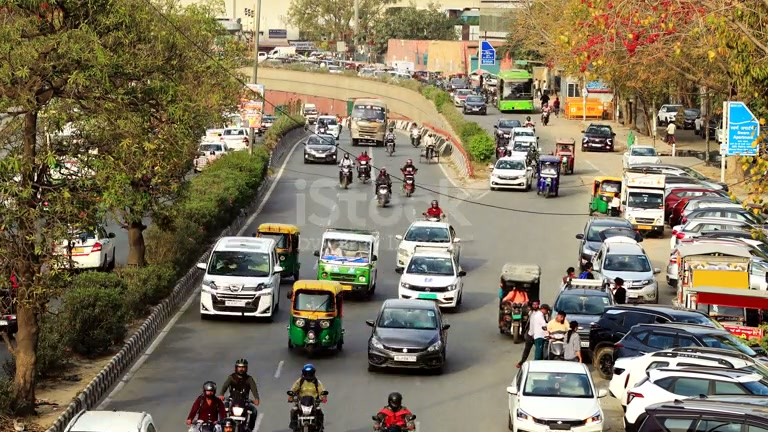bus: (673, 238, 768, 327), (255, 223, 301, 281), (347, 96, 389, 146)
car: (587, 304, 735, 374), (619, 361, 768, 427), (605, 323, 766, 380), (505, 360, 605, 432), (198, 236, 282, 321), (364, 297, 450, 374), (287, 280, 346, 357), (590, 239, 659, 304), (631, 400, 768, 430), (396, 251, 465, 310), (394, 220, 464, 275), (577, 216, 642, 273), (550, 285, 618, 334), (66, 224, 117, 271), (64, 409, 158, 431), (489, 155, 537, 191), (303, 134, 338, 163), (581, 123, 616, 151), (462, 93, 487, 115)
motorcycle: (287, 390, 328, 432), (222, 393, 259, 431), (375, 182, 393, 208), (384, 132, 396, 156)
pedestrian: (219, 357, 260, 430), (286, 363, 329, 424), (186, 381, 227, 431), (520, 300, 550, 365), (372, 391, 417, 431), (528, 301, 550, 362), (545, 310, 571, 361), (610, 277, 628, 305)
truck: (316, 227, 380, 299), (255, 222, 301, 281), (348, 97, 390, 146)
